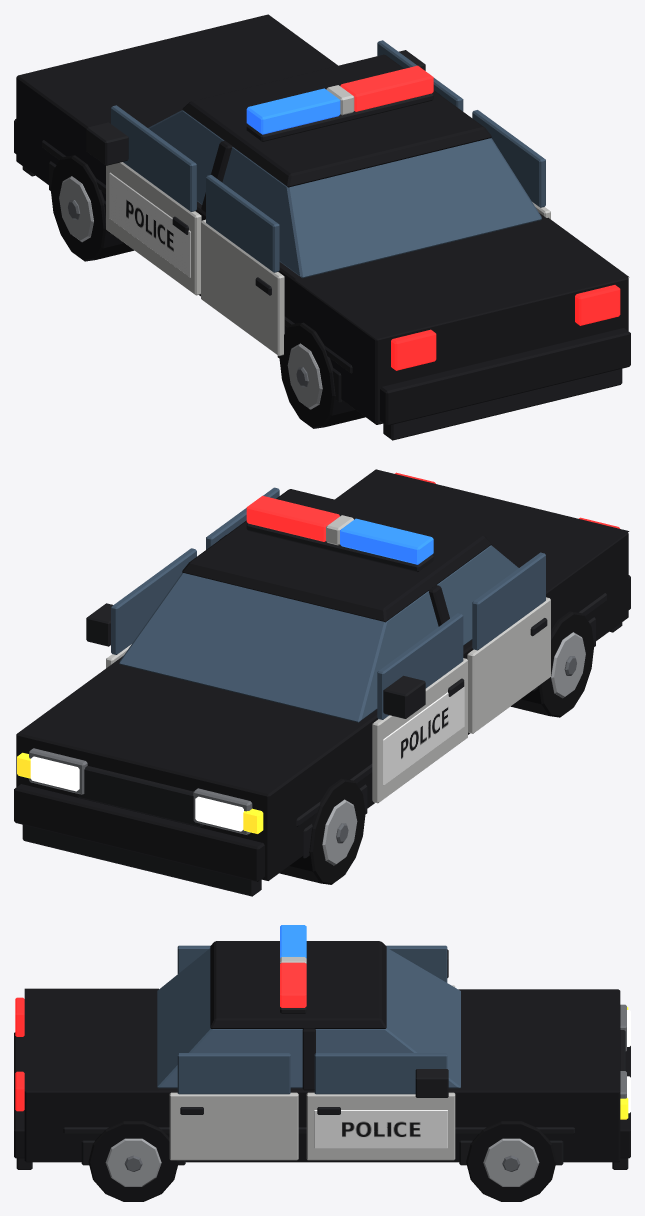
The model's file is car_police.glb.
The picture shows the model from 3 angles, top to bottom: view 1: azimuth 30°, elevation 25°; view 2: azimuth 150°, elevation 25°; view 3: azimuth 270°, elevation 25°; orthographic projection. The views are drawn at different scales.
Visible parts, largest first — view 1: car_body, car_door_FL, car_door_RL, car_door_RR, car_door_FR; view 2: car_body, car_door_FL, car_door_RL, car_door_FR, car_door_RR; view 3: car_body, car_door_FR, car_door_RR, car_door_FL, car_door_RL.
Part boxes in pixels (x1,y1,x2,y2): car_body: (14,14,630,440); car_door_FL: (86,105,201,295); car_door_RL: (201,175,284,355); car_door_RR: (472,110,550,219); car_door_FR: (377,40,463,111); car_body: (14,469,630,896); car_door_FL: (372,613,467,803); car_door_RL: (467,552,550,733); car_door_FR: (86,548,196,668); car_door_RR: (206,487,279,549); car_body: (14,925,630,1201); car_door_FR: (306,1053,455,1160); car_door_RR: (169,1053,298,1160); car_door_FL: (386,945,455,987); car_door_RL: (177,945,210,973).
Bounding box in the file's own units: 2.3 × 1.58 × 4.64.
Materials: 7 (1 with a texture image).
